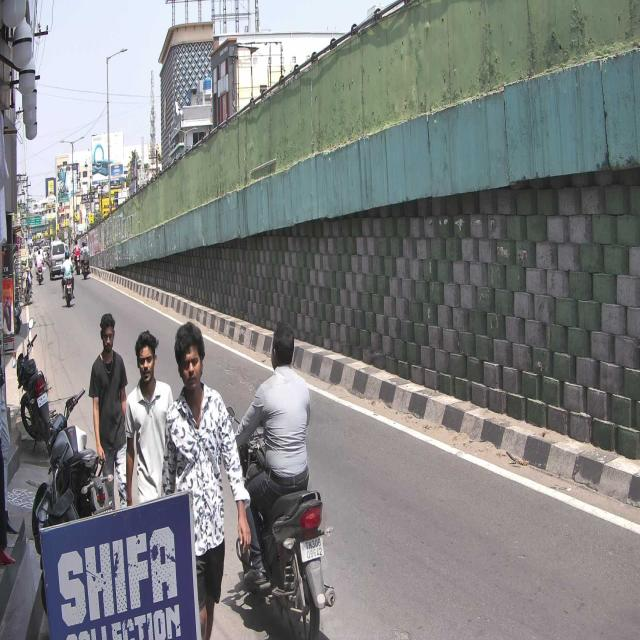single_rider: (229, 321, 338, 640)
